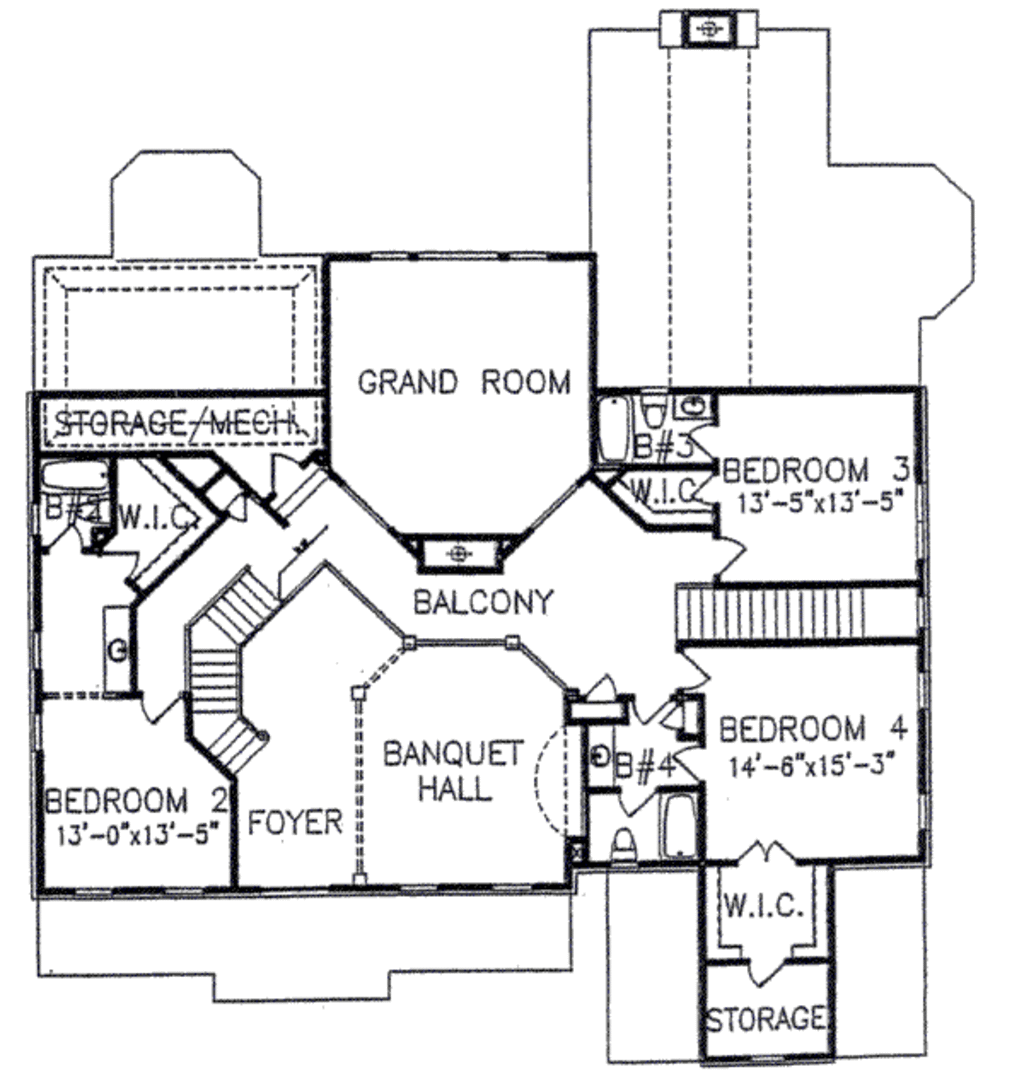door: (730, 828, 805, 869), (571, 669, 630, 705), (701, 530, 747, 574), (672, 648, 715, 693), (133, 688, 184, 724), (42, 518, 89, 556), (744, 951, 795, 984), (100, 541, 140, 580)
large_sink: (604, 819, 646, 868), (638, 388, 672, 435)
small: (587, 727, 619, 801)
small_sink: (102, 605, 135, 693)
stairs: (185, 569, 272, 774), (670, 577, 923, 647)
tub: (28, 454, 112, 499), (656, 791, 701, 862), (592, 392, 635, 462)
windows: (362, 243, 549, 271)
